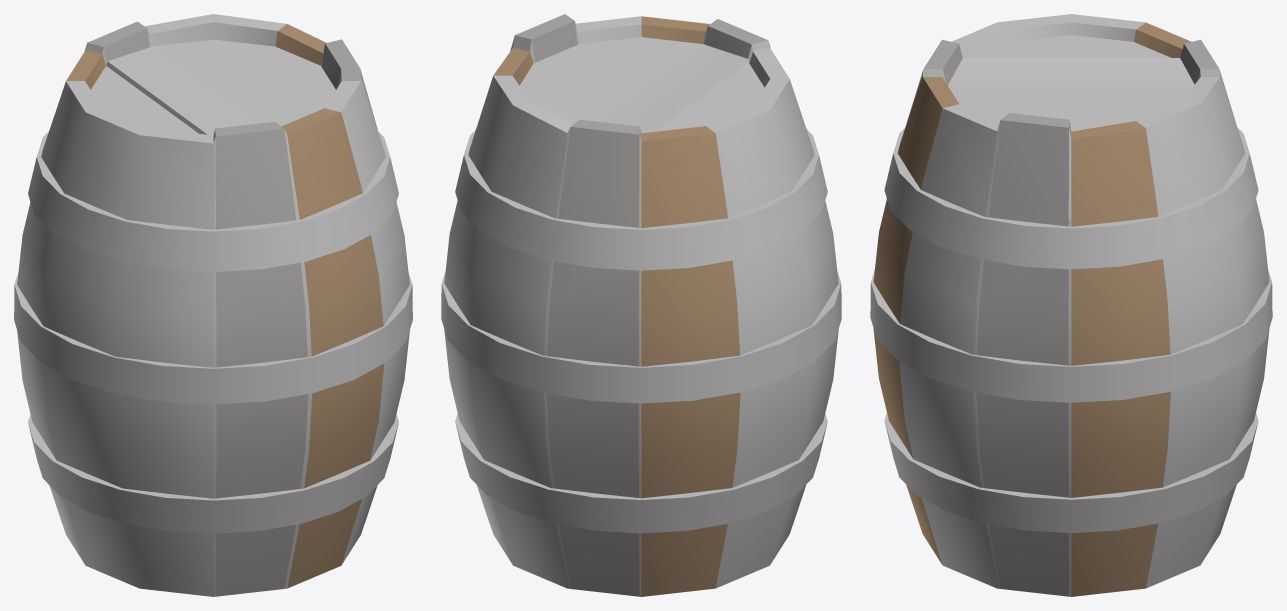
Rendered from Barrel.gltf.
3 renders of one model, left to right at view 1: azimuth 30°, elevation 25°; view 2: azimuth 150°, elevation 25°; view 3: azimuth 270°, elevation 25°, orthographic.
Parts seen in each view (by area): view 1: Barrel; view 2: Barrel; view 3: Barrel.
Boxes of the visible parts, x1,y1,x2,y2 form: Barrel: (14, 14, 412, 596); Barrel: (441, 14, 841, 596); Barrel: (870, 14, 1272, 596).
Size of the model in its own units: 0.698 by 0.898 by 0.698.
